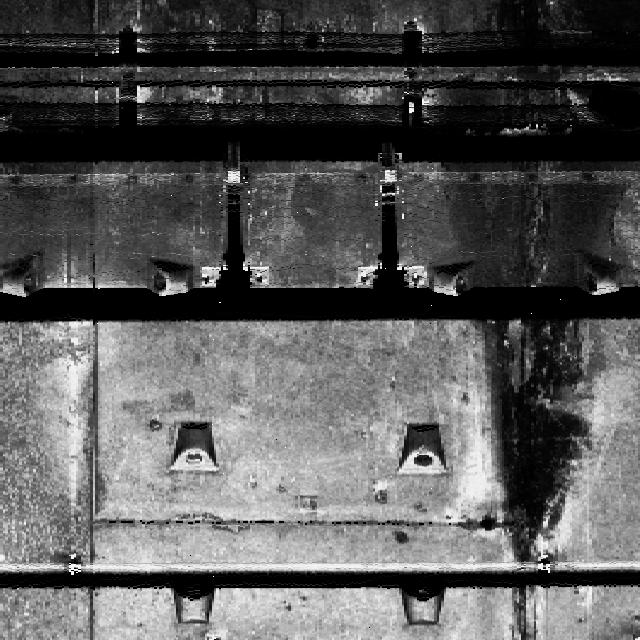leakage: (423, 1, 639, 610)
